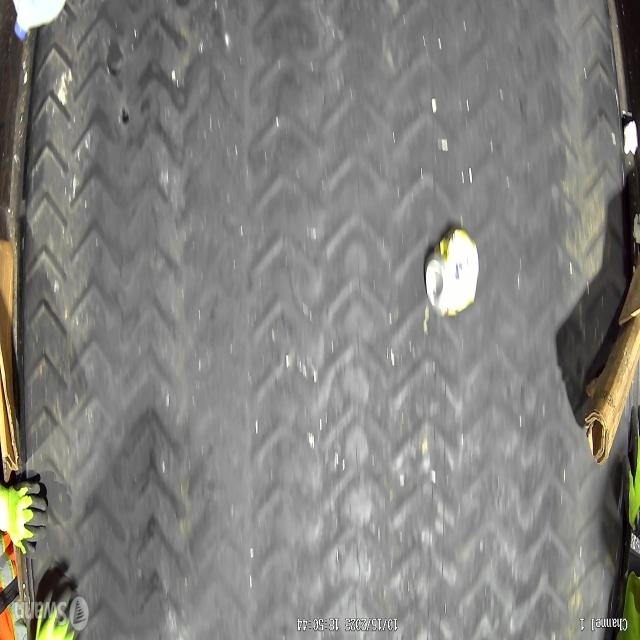can: (426, 227, 480, 315)
milk_jug: (12, 0, 66, 42)
